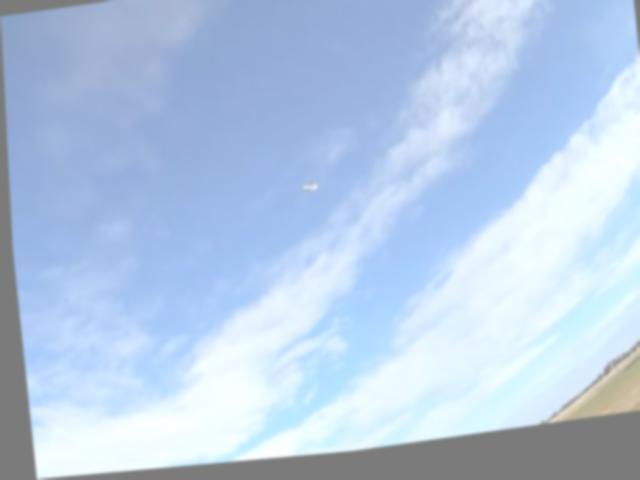uav: (293, 171, 322, 206)
